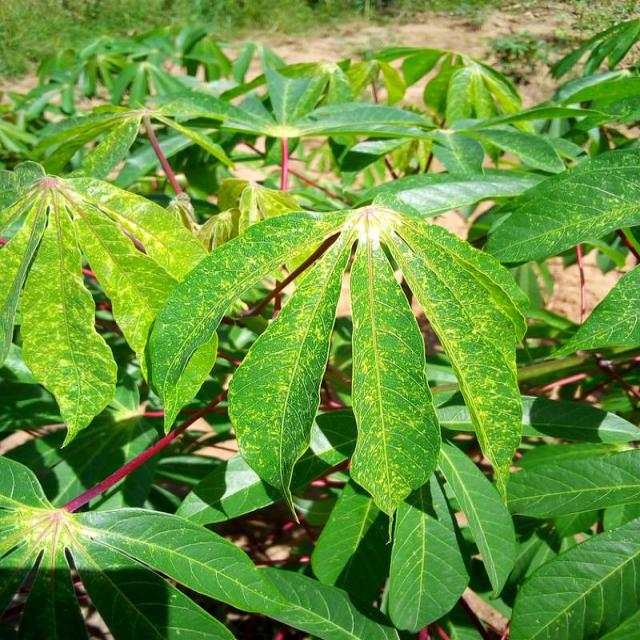cassava leaf: (147, 192, 530, 528)
